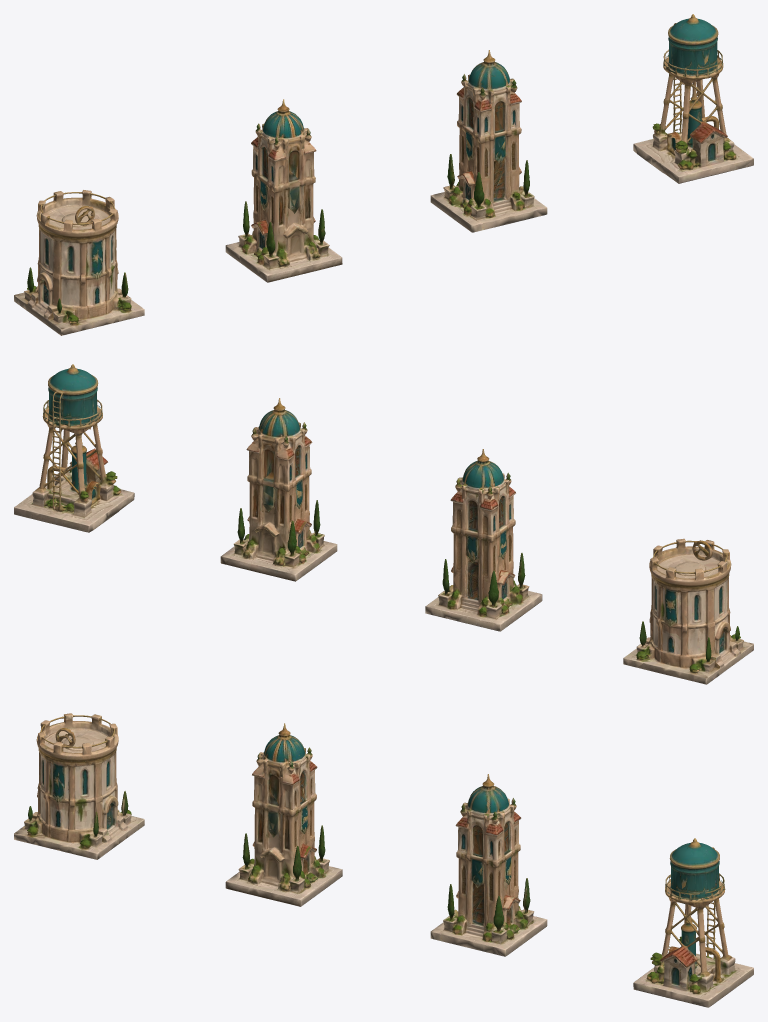
Rendered from landmarks-a.glb.
3 renders of one model, top to bottom at view 1: azimuth 30°, elevation 25°; view 2: azimuth 150°, elevation 25°; view 3: azimuth 330°, elevation 25°, orthographic.
Parts seen in each view (by area): view 1: observatory, clock, library, water-tower; view 2: observatory, library, clock, water-tower; view 3: observatory, clock, library, water-tower.
Boxes of the visible parts, box(x1,y1,x2,y2) form: observatory: box(14, 190, 144, 335); clock: box(225, 99, 342, 282); library: box(430, 50, 547, 232); water-tower: box(633, 14, 753, 183); observatory: box(623, 538, 753, 684); library: box(220, 398, 337, 581); clock: box(425, 449, 542, 631); water-tower: box(14, 364, 134, 532); observatory: box(14, 713, 144, 859); clock: box(225, 723, 342, 906); library: box(430, 774, 547, 956); water-tower: box(633, 838, 753, 1007).
Bounding box in the file's own units: 5.08 × 1.11 × 0.6025.
Materials: 1 (1 with a texture image).
